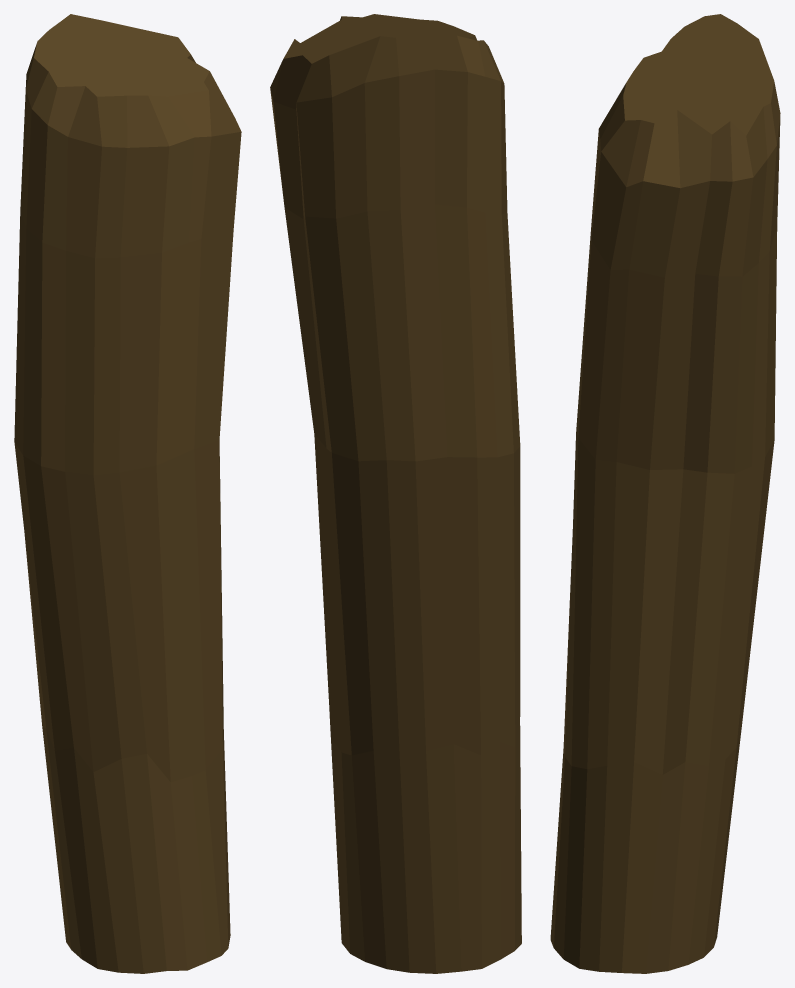
Rendered from wooden column 1.fbx.
3 renders of one model, left to right at view 1: azimuth 30°, elevation 25°; view 2: azimuth 150°, elevation 25°; view 3: azimuth 270°, elevation 25°, orthographic. The views are drawn at different scales.
Parts seen in each view (by area): view 1: Cylinder; view 2: Cylinder; view 3: Cylinder.
Boxes of the visible parts, x1,y1,x2,y2 form: Cylinder: (14,14,241,973); Cylinder: (270,14,521,973); Cylinder: (550,14,780,973).
Bounding box in the file's own units: 49.67 × 210 × 48.84.
